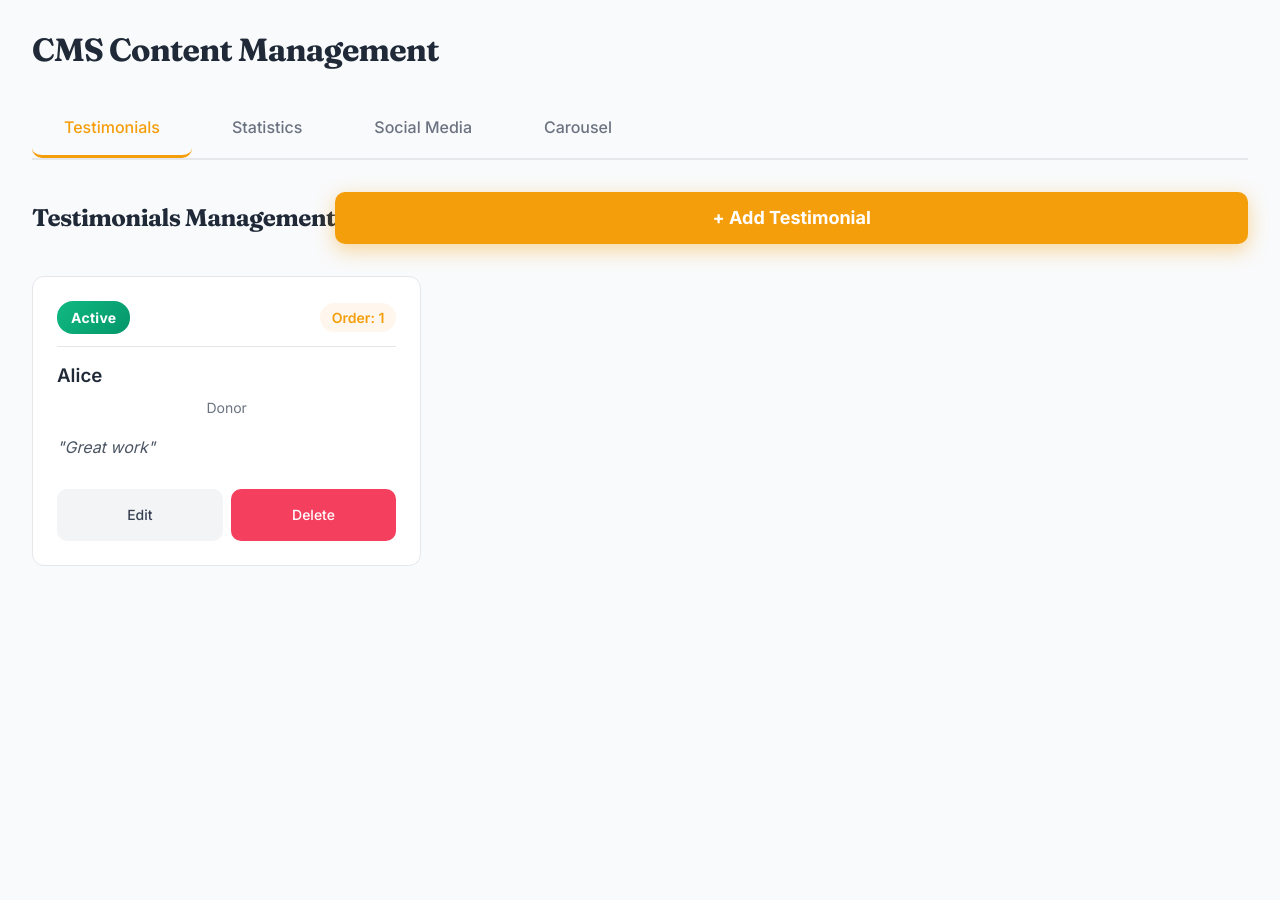
Test case: AdminCMS › clicking Add Stat in Statistics tab shows StatForm
Expected: the heading "Alice" is shown, left=57, top=364, right=102, bottom=387
Click the button "Statistics" at (267,129), box left=200, top=99, right=334, bottom=158
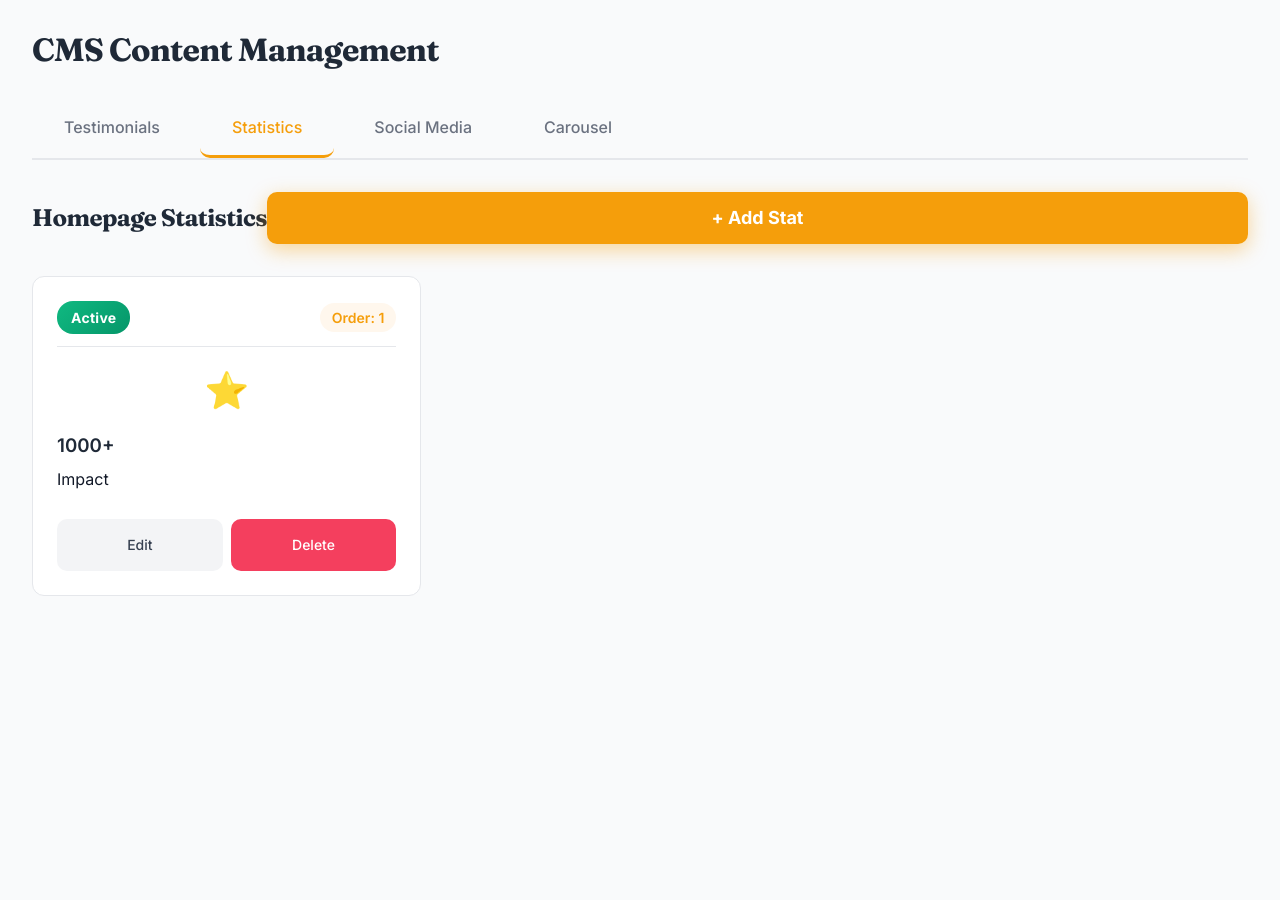
Result: the text "Impact" is shown at left=57, top=469, right=109, bottom=489
Click the button "+ Add Stat" at (757,218), box left=267, top=192, right=1248, bottom=244
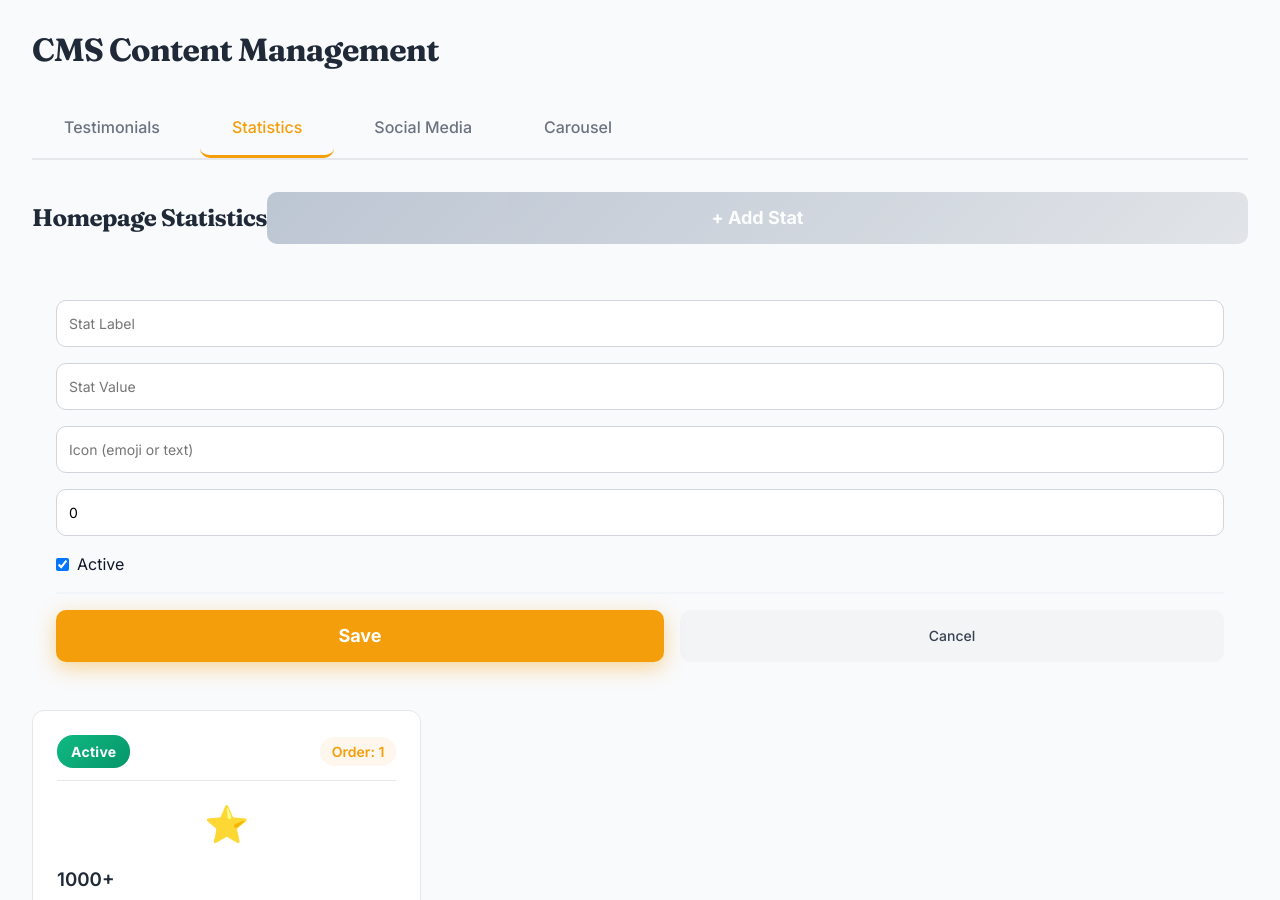
Result: the field with placeholder "Stat Label" is shown at left=56, top=300, right=1224, bottom=347
Result: the field with placeholder "Stat Value" is shown at left=56, top=363, right=1224, bottom=410
